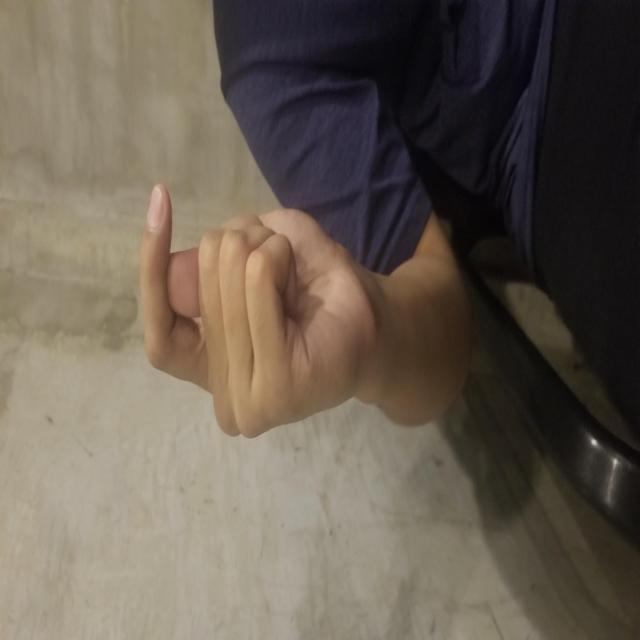T: (199, 140, 457, 361)
